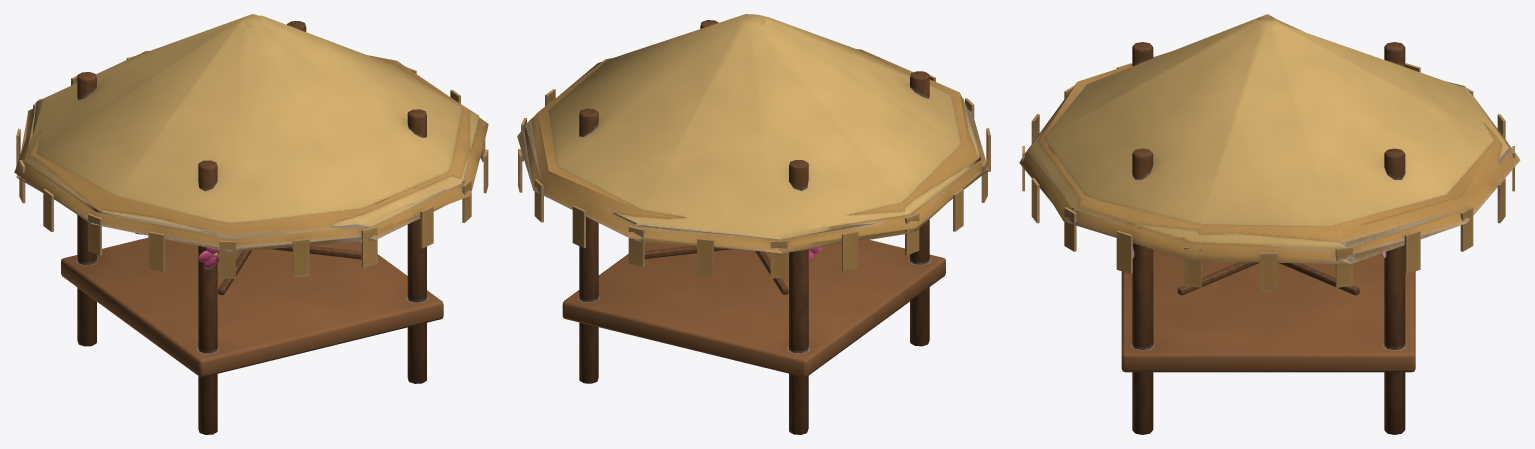
File: tf_tiki_hut.glb
The picture shows the model from 3 angles, left to right: view 1: azimuth 30°, elevation 25°; view 2: azimuth 150°, elevation 25°; view 3: azimuth 270°, elevation 25°; orthographic projection. The views are drawn at different scales.
Visible parts, largest first — view 1: tf_tiki_hut; view 2: tf_tiki_hut; view 3: tf_tiki_hut.
Part boxes in pixels (box(x1,y1,x2,y2)): tf_tiki_hut: box(14, 14, 488, 434); tf_tiki_hut: box(517, 14, 990, 434); tf_tiki_hut: box(1019, 14, 1520, 434).
Bounding box in the file's own units: 7.04 × 5.66 × 7.16.
Materials: 8 (8 with a texture image).
